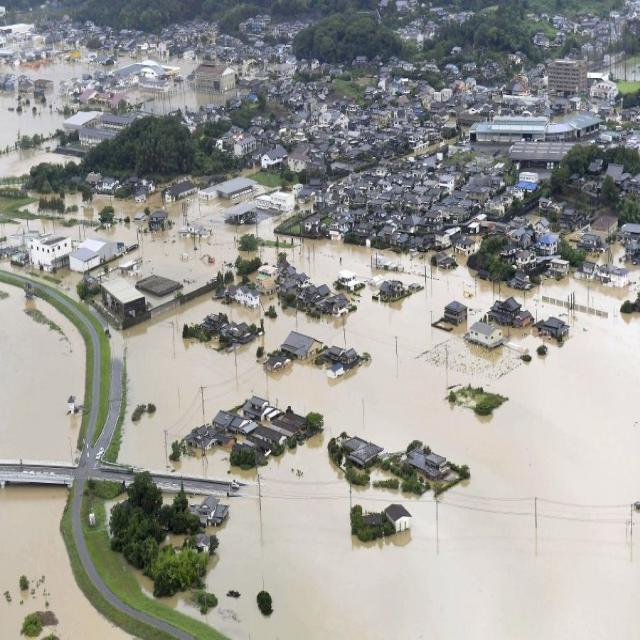flood: (110, 234, 640, 640), (12, 193, 310, 310), (0, 280, 85, 465), (0, 60, 136, 150), (147, 63, 225, 113), (28, 268, 82, 294)
house: (26, 230, 75, 278), (267, 328, 323, 368), (471, 116, 553, 143), (74, 110, 131, 148), (72, 237, 122, 275), (192, 62, 236, 98), (343, 435, 385, 471), (403, 448, 450, 480), (488, 295, 530, 328), (212, 410, 256, 435), (536, 310, 568, 342), (470, 322, 504, 349), (442, 297, 469, 330), (386, 502, 412, 536), (245, 397, 280, 422), (255, 424, 288, 450), (218, 178, 256, 200), (261, 146, 289, 170), (457, 234, 482, 258)
